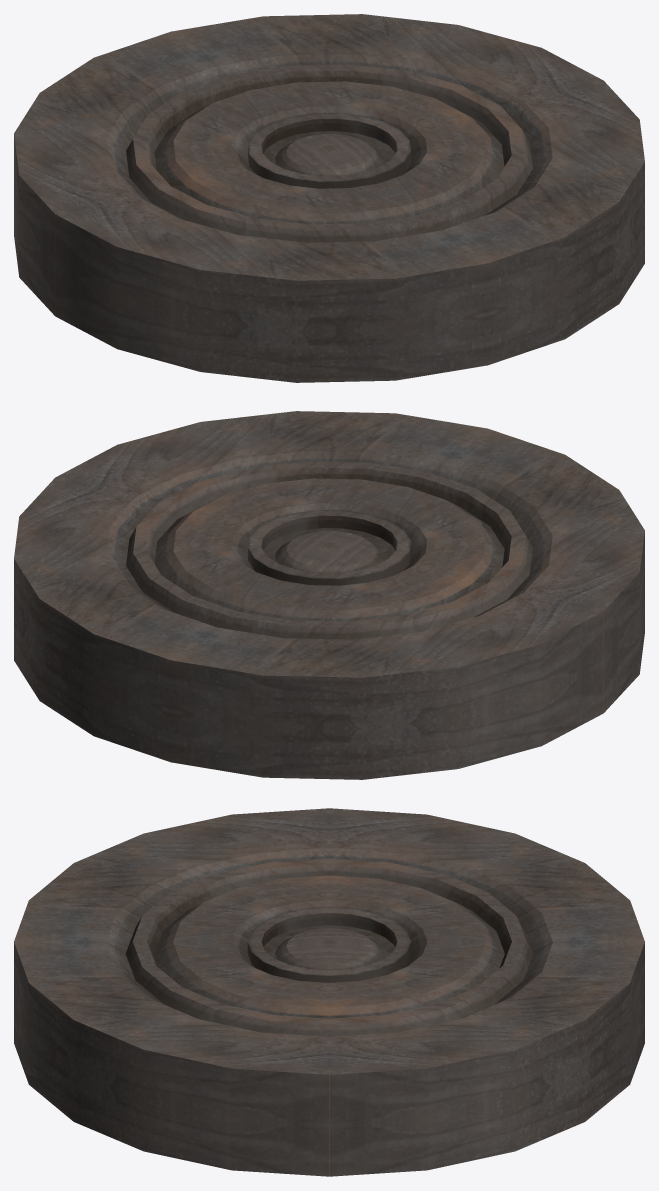
File: carromB_ball.fbx
3 renders of one model, top to bottom at view 1: azimuth 30°, elevation 25°; view 2: azimuth 150°, elevation 25°; view 3: azimuth 270°, elevation 25°, orthographic.
Parts seen in each view (by area): view 1: Object_41; view 2: Object_41; view 3: Object_41.
Boxes of the visible parts, left/top/right/bottom form: Object_41: left=14, top=14, right=644, bottom=382; Object_41: left=14, top=411, right=644, bottom=779; Object_41: left=14, top=808, right=644, bottom=1176.
Size of the model in its own units: 18.36 by 3.27 by 18.36.
Materials: 1 (1 with a texture image).
